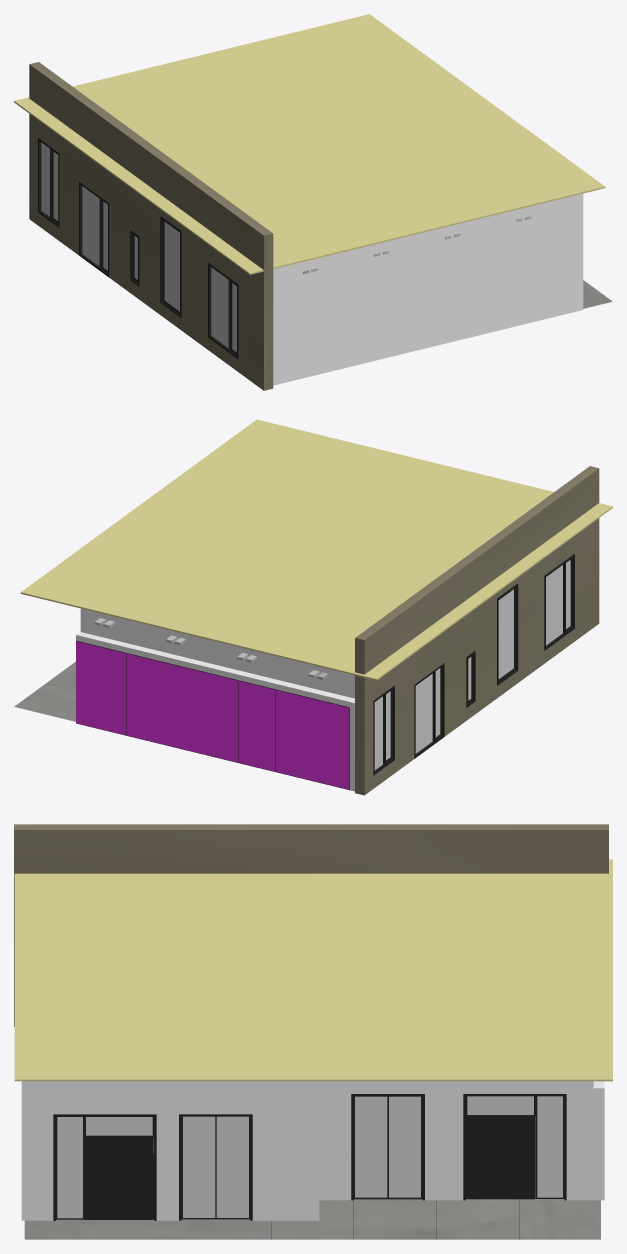
Rendered from LectureRoom.fbx.
3 views of the same model, one above another, from view 1: azimuth 30°, elevation 25°; view 2: azimuth 150°, elevation 25°; view 3: azimuth 270°, elevation 25° (orthographic). The views are drawn at different scales.
Visible parts, largest first — view 1: Cube, Room, OuterWall, Glass.006, Glass.003, Glass.005, Glass.001, OuterFrame.007, OuterFrame.004, OuterFrame.001, OuterFrame.006; view 2: Cube, Room, OuterWall, Plane, Glass.003, Glass.006, Glass.005, Glass.001, OuterFrame.004, OuterFrame.007, OuterFrame.001, OuterFrame.006; view 3: Cube, Room, OuterWall, Plane, Glass, Glass.002, Door.001, Door, SideGlass, SideGlass.001, UpperGlass.001, UpperGlass (+7 smaller).
Boxes of the visible parts, left/top/right/bottom form: Cube: left=14, top=14, right=605, bottom=274; Room: left=273, top=193, right=583, bottom=385; OuterWall: left=29, top=62, right=273, bottom=390; Glass.006: left=211, top=267, right=236, bottom=351; Glass.003: left=82, top=186, right=107, bottom=270; Glass.005: left=164, top=222, right=179, bottom=311; Glass.001: left=41, top=142, right=58, bottom=220; OuterFrame.007: left=208, top=262, right=238, bottom=358; OuterFrame.004: left=79, top=181, right=109, bottom=277; OuterFrame.001: left=38, top=138, right=59, bottom=227; OuterFrame.006: left=160, top=216, right=181, bottom=317; Cube: left=20, top=419, right=612, bottom=680; Room: left=76, top=608, right=354, bottom=791; OuterWall: left=355, top=466, right=599, bottom=795; Plane: left=14, top=661, right=75, bottom=721; Glass.003: left=415, top=668, right=440, bottom=753; Glass.006: left=546, top=560, right=570, bottom=645; Glass.005: left=498, top=589, right=513, bottom=678; Glass.001: left=374, top=691, right=390, bottom=770; OuterFrame.004: left=414, top=663, right=444, bottom=758; OuterFrame.007: left=544, top=554, right=574, bottom=650; OuterFrame.001: left=373, top=685, right=394, bottom=775; OuterFrame.006: left=497, top=584, right=518, bottom=685; Cube: left=14, top=859, right=612, bottom=1081; Room: left=21, top=1081, right=604, bottom=1220; OuterWall: left=14, top=824, right=608, bottom=1026; Plane: left=24, top=1094, right=600, bottom=1239; Glass: left=183, top=1116, right=248, bottom=1217; Glass.002: left=355, top=1096, right=420, bottom=1197; Door.001: left=466, top=1116, right=535, bottom=1199; Door: left=84, top=1137, right=153, bottom=1219; SideGlass: left=57, top=1117, right=82, bottom=1218; SideGlass.001: left=537, top=1096, right=562, bottom=1197; UpperGlass.001: left=86, top=1117, right=152, bottom=1135; UpperGlass: left=467, top=1096, right=533, bottom=1114.
Size of the model in its own units: 1239 by 500 by 1380.
